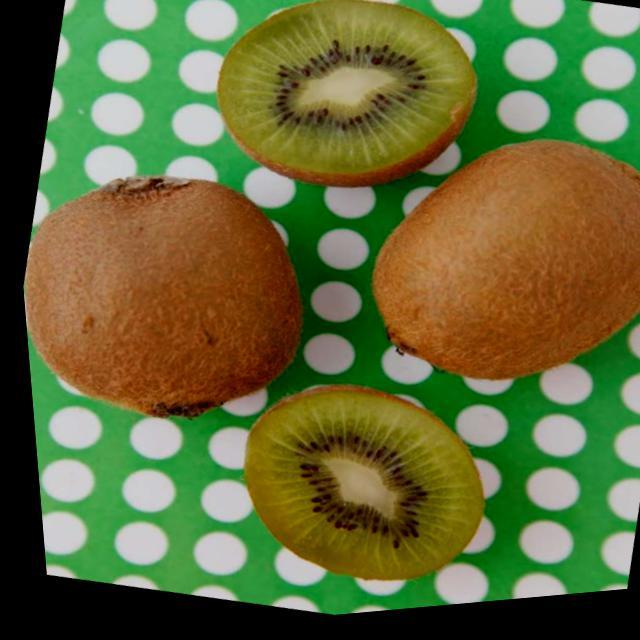kiwi: (10, 115, 342, 452), (335, 104, 640, 437)
